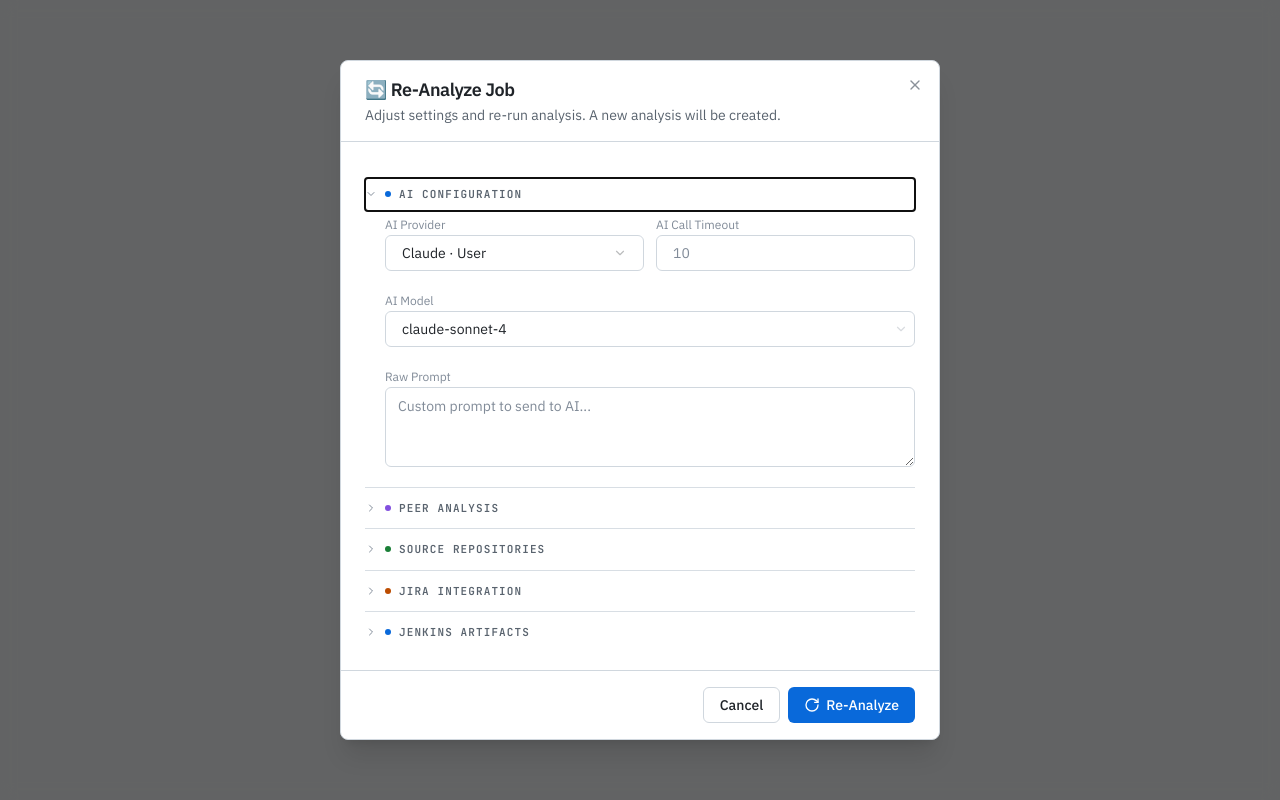
Test: ReAnalyzeDialog › shows the backend detail when re-analysis is rejected
Click the button "Re-Analyze": click(852, 705) [788, 687, 915, 723]
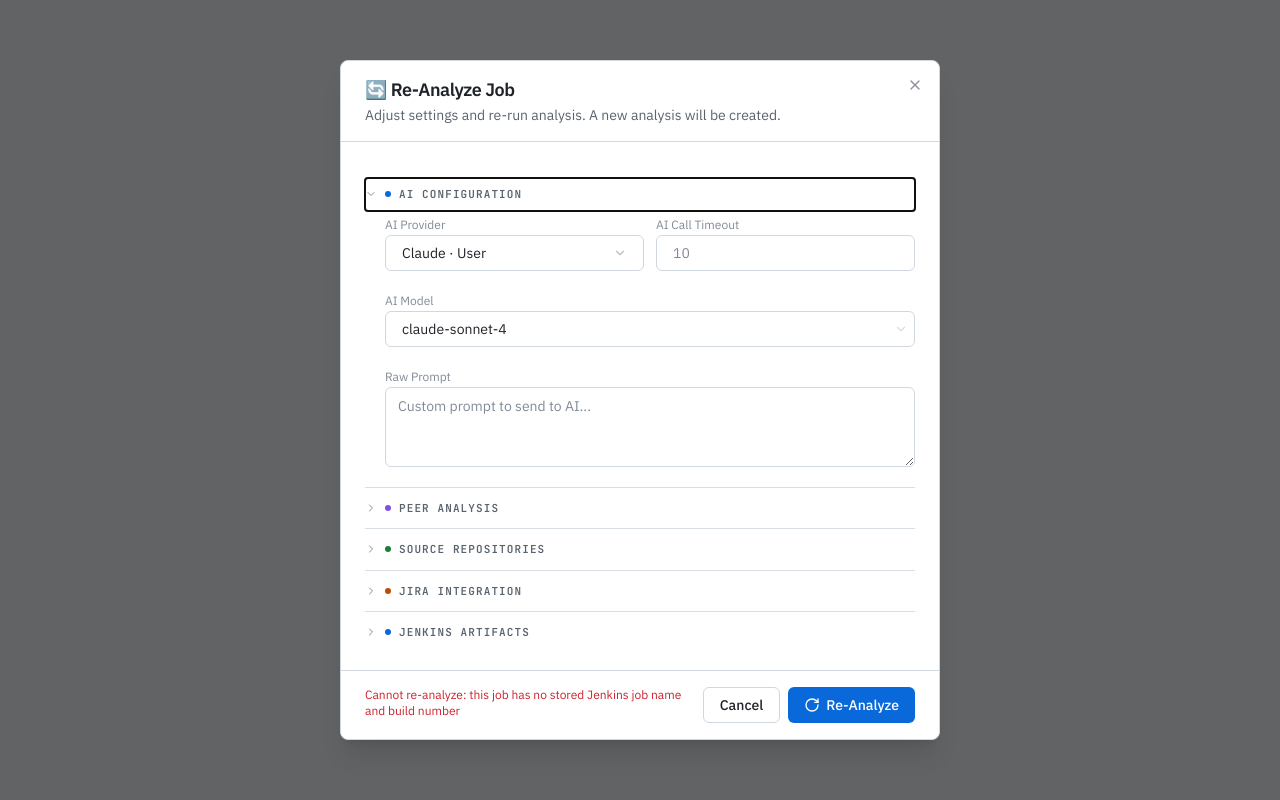
Expected: the text "Cannot re-analyze: this job has no stored Jenkins job name and build number" is shown, [365, 687, 703, 723]
